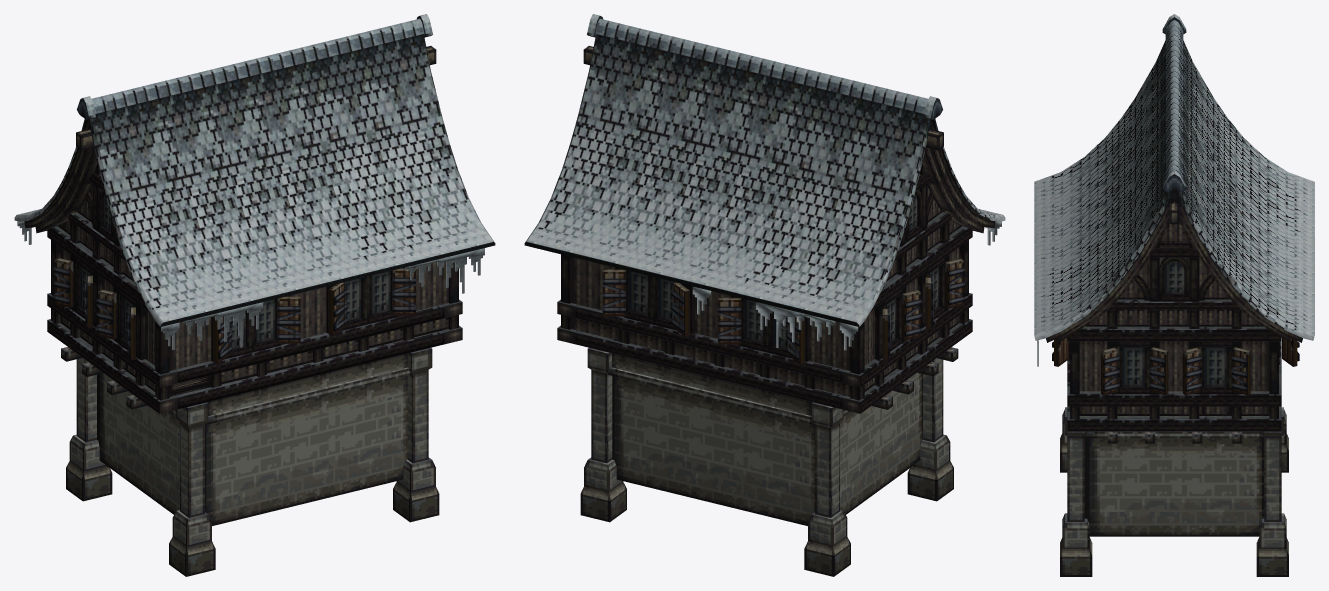
The model's file is EnvBdgMD_SnowHouse_A_Outdoor_House_C.FBX.
The picture shows the model from 3 angles, left to right: view 1: azimuth 30°, elevation 25°; view 2: azimuth 150°, elevation 25°; view 3: azimuth 270°, elevation 25°; orthographic projection. The views are drawn at different scales.
Parts seen in each view (by area): view 1: EnvBdgMD_SnowHouse_A_Outdoor_House_C; view 2: EnvBdgMD_SnowHouse_A_Outdoor_House_C; view 3: EnvBdgMD_SnowHouse_A_Outdoor_House_C.
Part boxes in pixels (box(x1,y1,x2,y2)): EnvBdgMD_SnowHouse_A_Outdoor_House_C: box(14, 14, 495, 576); EnvBdgMD_SnowHouse_A_Outdoor_House_C: box(524, 14, 1005, 576); EnvBdgMD_SnowHouse_A_Outdoor_House_C: box(1034, 14, 1314, 576).
Size of the model in its own units: 785 by 941 by 563.
1 material, 1 textured.
